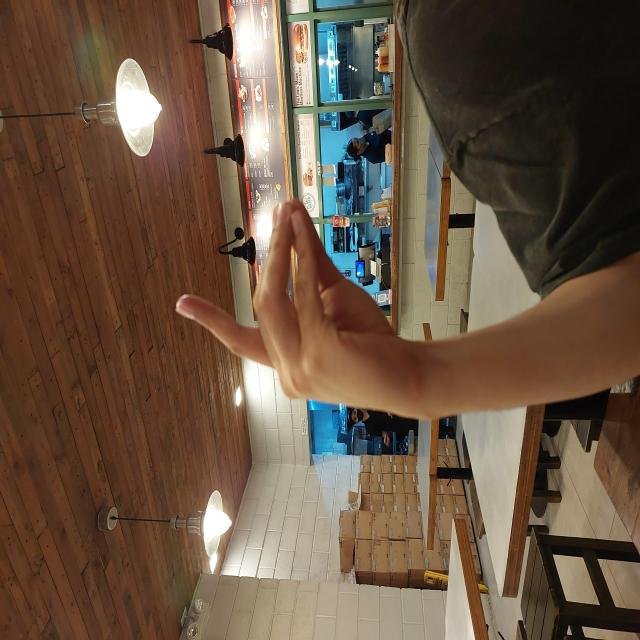D: (228, 174, 444, 418)
